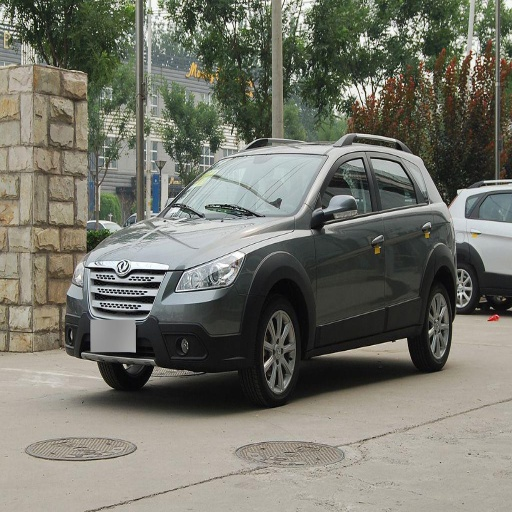front_bumper: (64, 255, 256, 372)
front_glass: (168, 152, 324, 218)
front_left_door: (317, 150, 386, 339)
